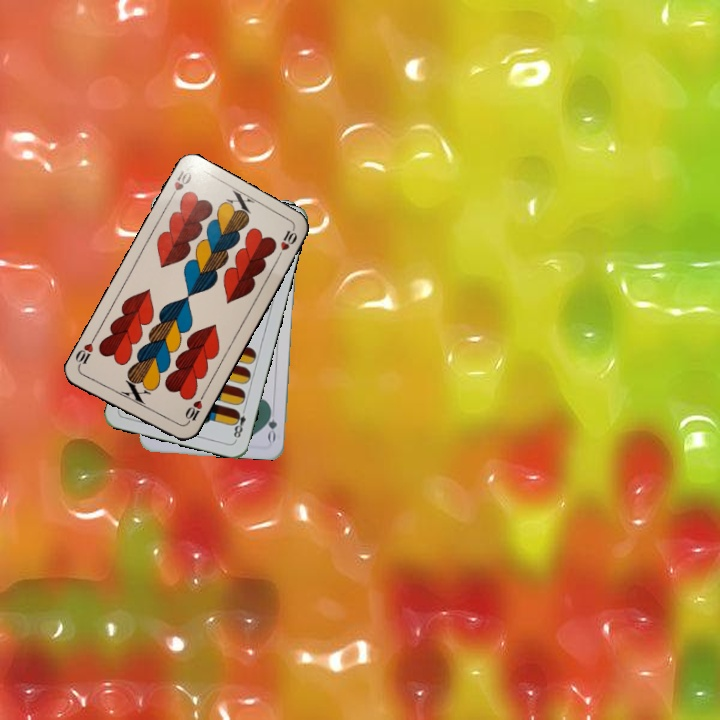E8: (229, 403, 249, 443)
GO: (263, 403, 279, 444)
H10: (164, 166, 194, 203), (181, 391, 206, 428)
